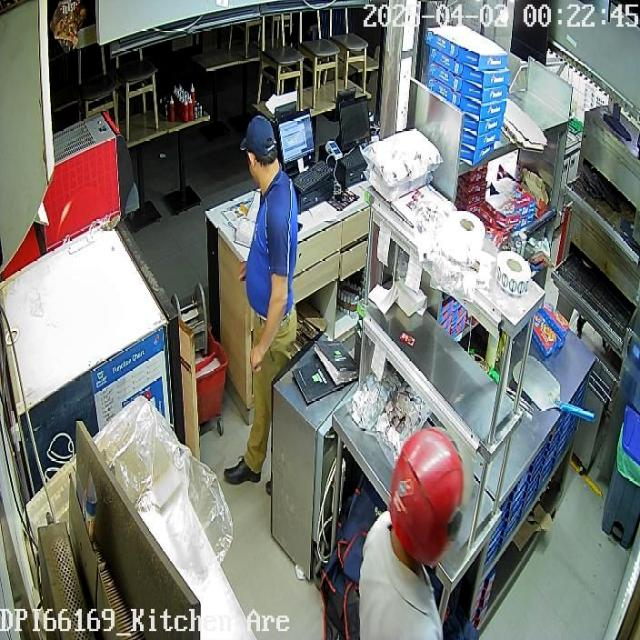helmet: (390, 426, 473, 567)
no_helmet: (239, 115, 279, 192)
